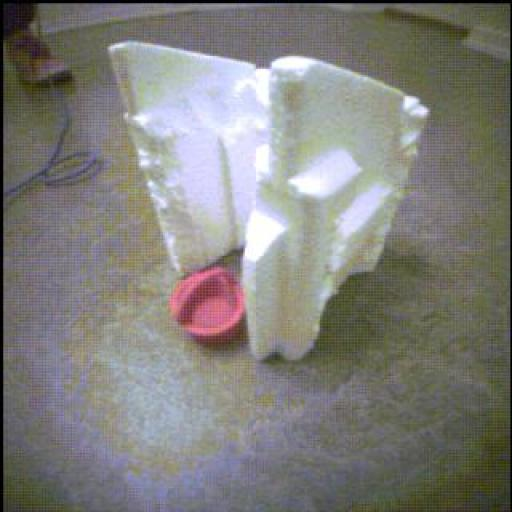Bucket: (171, 267, 246, 345)
